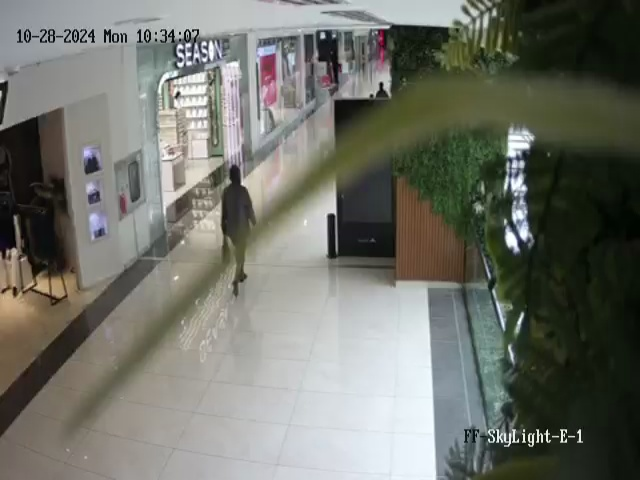female: (367, 76, 393, 103)
male: (220, 164, 257, 293)
